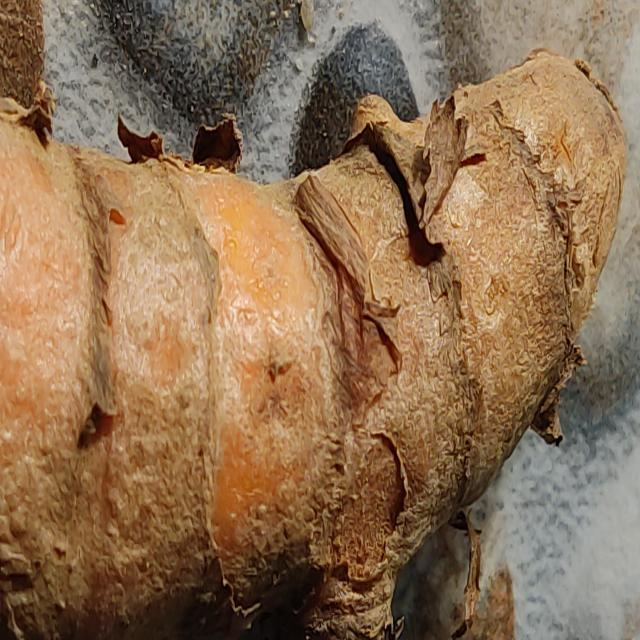ginger: (0, 83, 633, 577)
